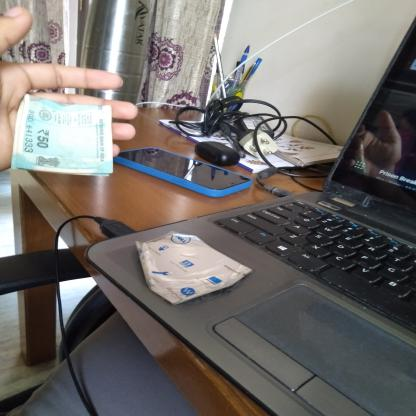New50Front: (18, 96, 113, 172)
